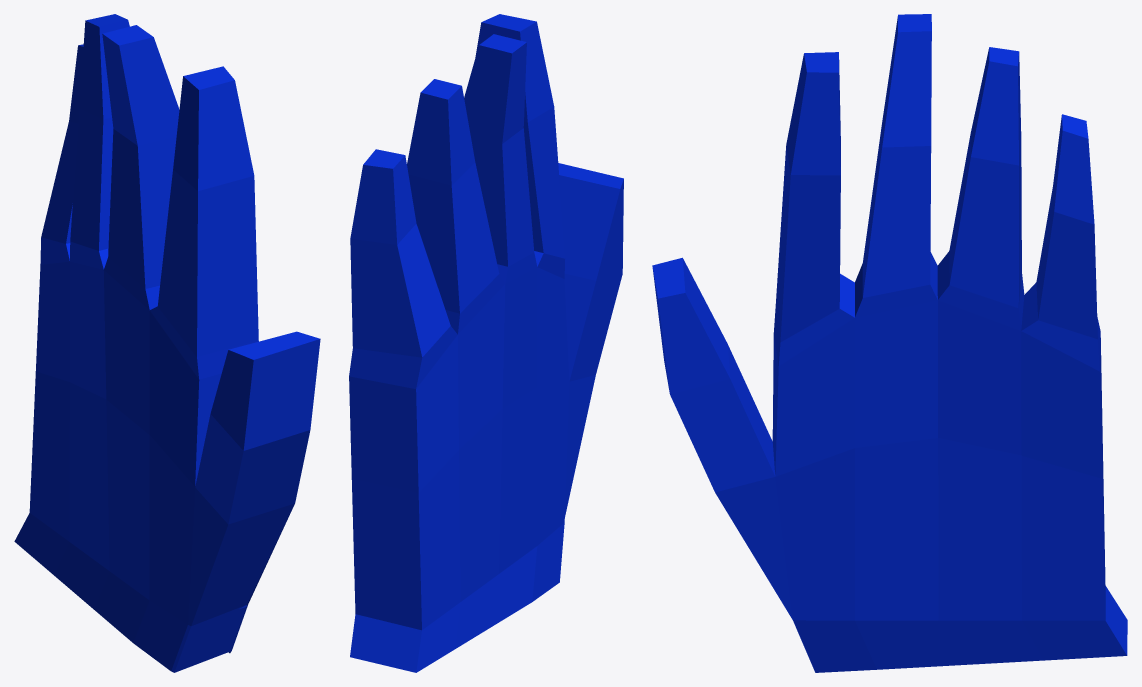
Rendered from Tema3.fbx.
3 renders of one model, left to right at view 1: azimuth 30°, elevation 25°; view 2: azimuth 150°, elevation 25°; view 3: azimuth 270°, elevation 25°, orthographic. The views are drawn at different scales.
Visible parts, largest first — view 1: Cube; view 2: Cube; view 3: Cube.
Boxes of the visible parts, x1,y1,x2,y2 form: Cube: (14, 14, 320, 672); Cube: (349, 14, 623, 672); Cube: (652, 14, 1127, 672).
Size of the model in its own units: 131 by 824 by 569.
